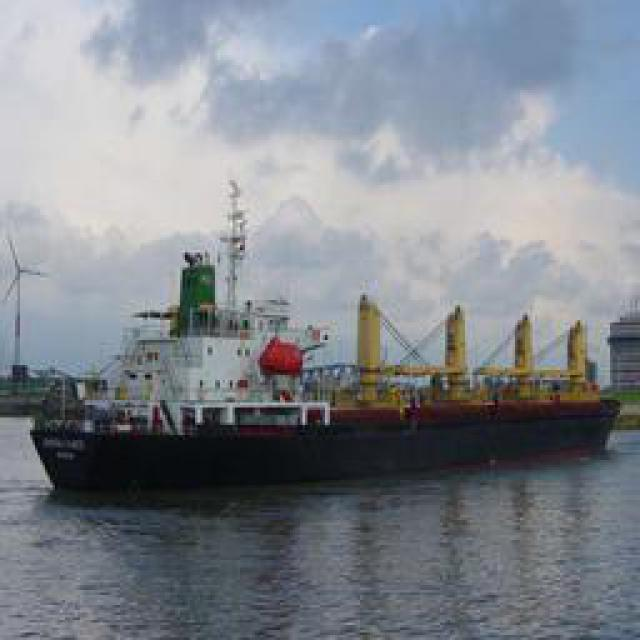Ship: (30, 212, 615, 480)
